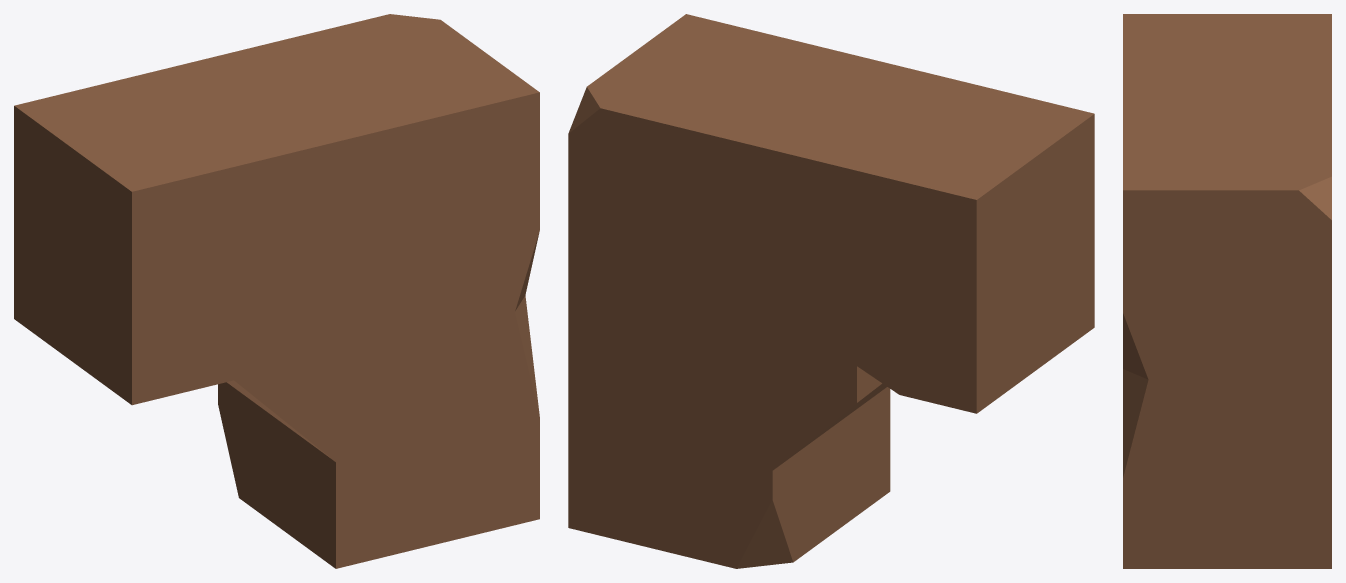
File: Monument_005.FBX
3 renders of one model, left to right at view 1: azimuth 30°, elevation 25°; view 2: azimuth 150°, elevation 25°; view 3: azimuth 270°, elevation 25°, orthographic. The views are drawn at different scales.
Visible parts, largest first — view 1: Monument_005; view 2: Monument_005; view 3: Monument_005.
Boxes of the visible parts, x1,y1,x2,y2 form: Monument_005: [14, 14, 539, 568]; Monument_005: [568, 14, 1094, 568]; Monument_005: [1123, 14, 1331, 568].
Bounding box in the file's own units: 39.37 × 39.37 × 19.69.
